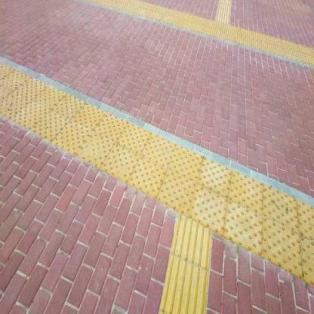Podoctatil: (0, 61, 313, 314), (87, 0, 312, 64)
